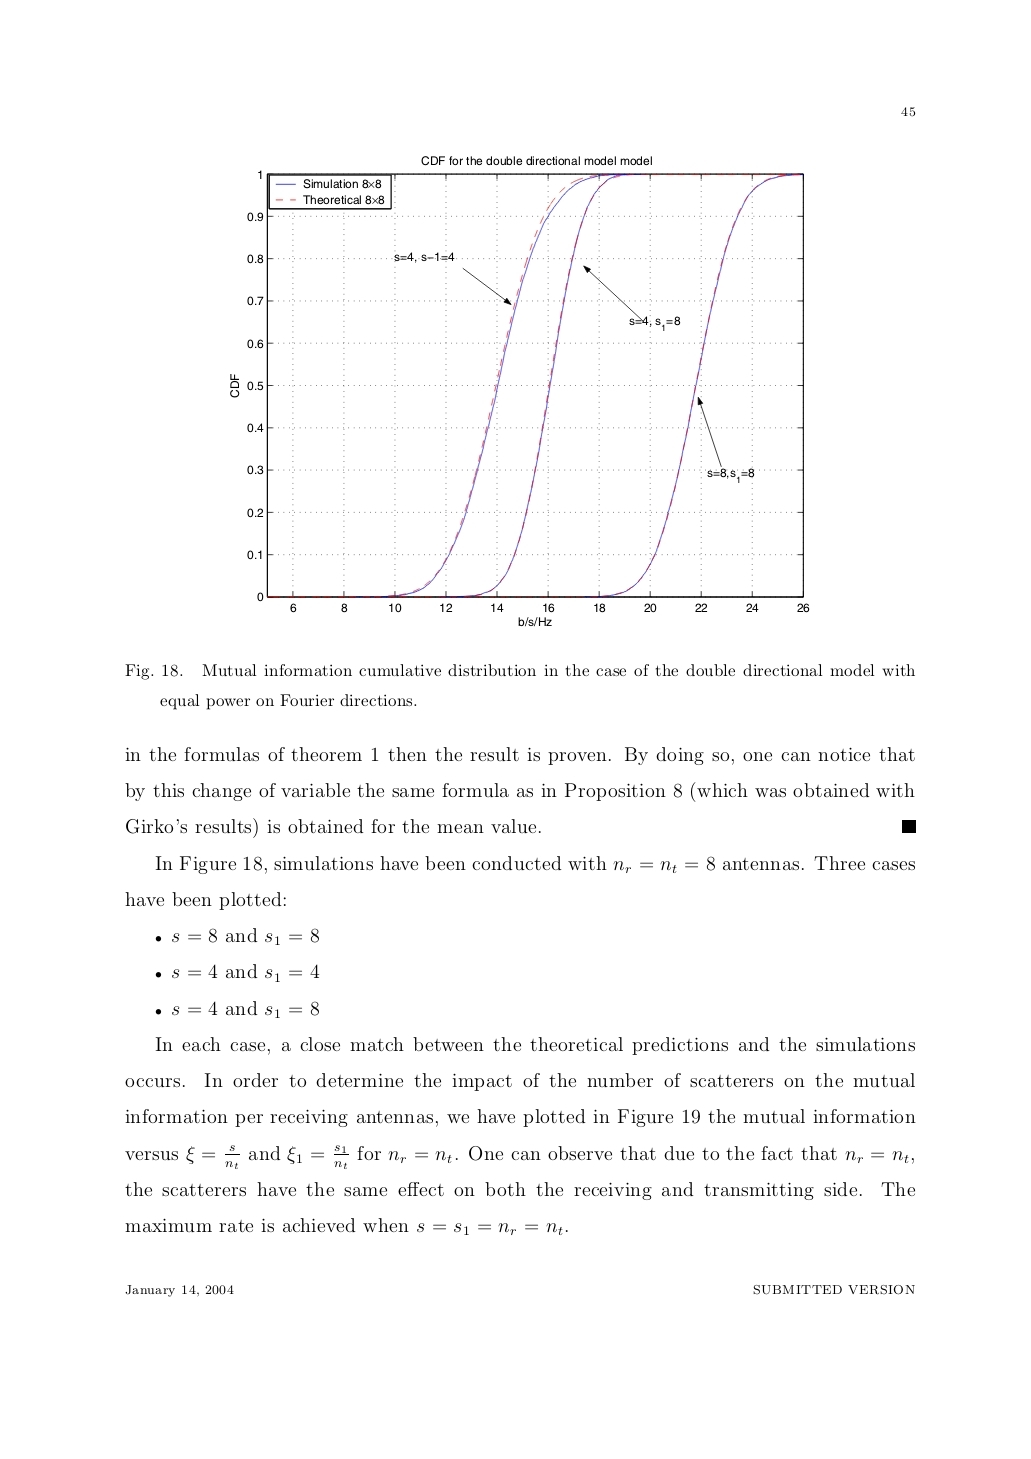figure: (230, 170, 809, 626)
formula: (155, 963, 319, 982), (155, 927, 318, 945), (155, 1001, 318, 1018)
